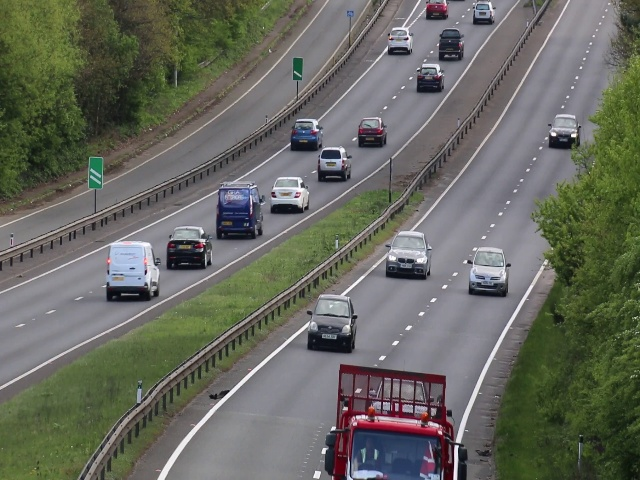car: (325, 406, 461, 480), (307, 288, 357, 353), (106, 243, 160, 299), (216, 181, 264, 239), (385, 226, 430, 279), (471, 244, 509, 295), (168, 224, 211, 268), (268, 174, 311, 212), (316, 145, 353, 181), (550, 112, 578, 148), (357, 114, 387, 147), (437, 28, 466, 61), (291, 118, 321, 149), (415, 64, 445, 92), (387, 25, 414, 52), (472, 2, 495, 22), (426, 1, 448, 19)
